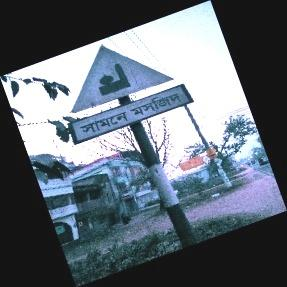Mosque in front: (67, 44, 191, 145)
